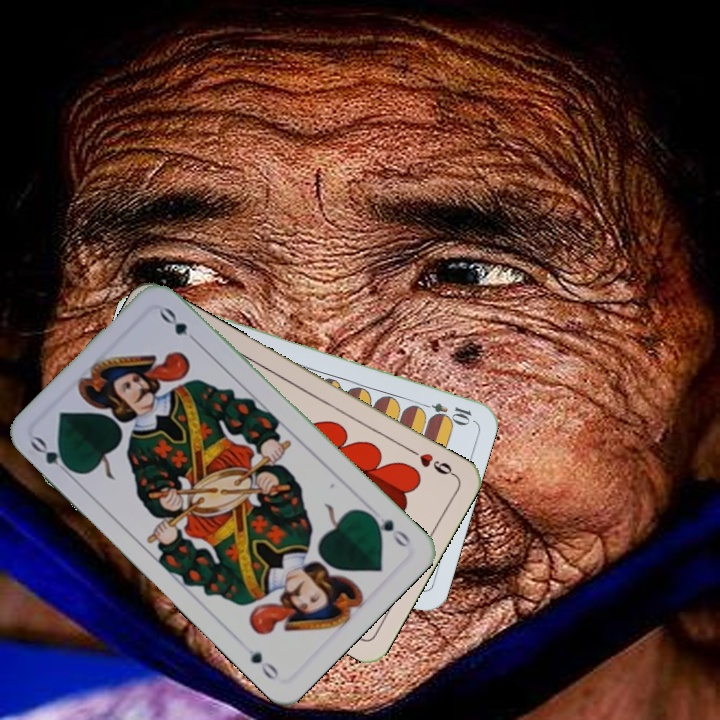E10: (415, 398, 474, 425)
GO: (26, 432, 78, 480), (363, 508, 413, 551)
H9: (404, 443, 458, 479)
